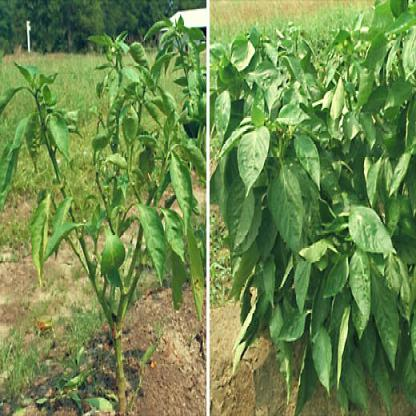Tomato leaf bacterial spot: (357, 247, 400, 368), (263, 153, 306, 250), (347, 203, 398, 260), (138, 202, 170, 289), (236, 121, 271, 200), (180, 215, 206, 321), (27, 187, 51, 294), (170, 140, 197, 233), (293, 131, 324, 199), (311, 319, 334, 397), (291, 244, 314, 319), (351, 248, 371, 325), (102, 229, 126, 290), (280, 303, 312, 348), (46, 109, 73, 161), (364, 152, 385, 204), (119, 70, 144, 88)
